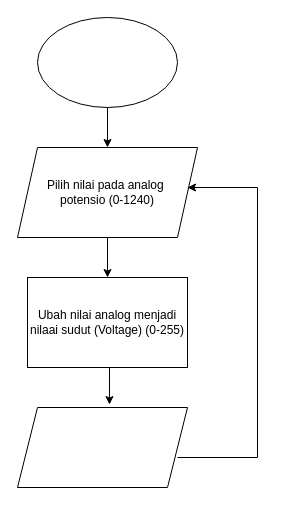
Some shapes in this 283 by 505 pixel diagram are drawn without their labels. Here are the shapes that lost their labels. From the top down, the box of each, then its label:
(36, 16, 178, 108): Start
(16, 406, 188, 488): Tampilkan nilai sudut ke servo
